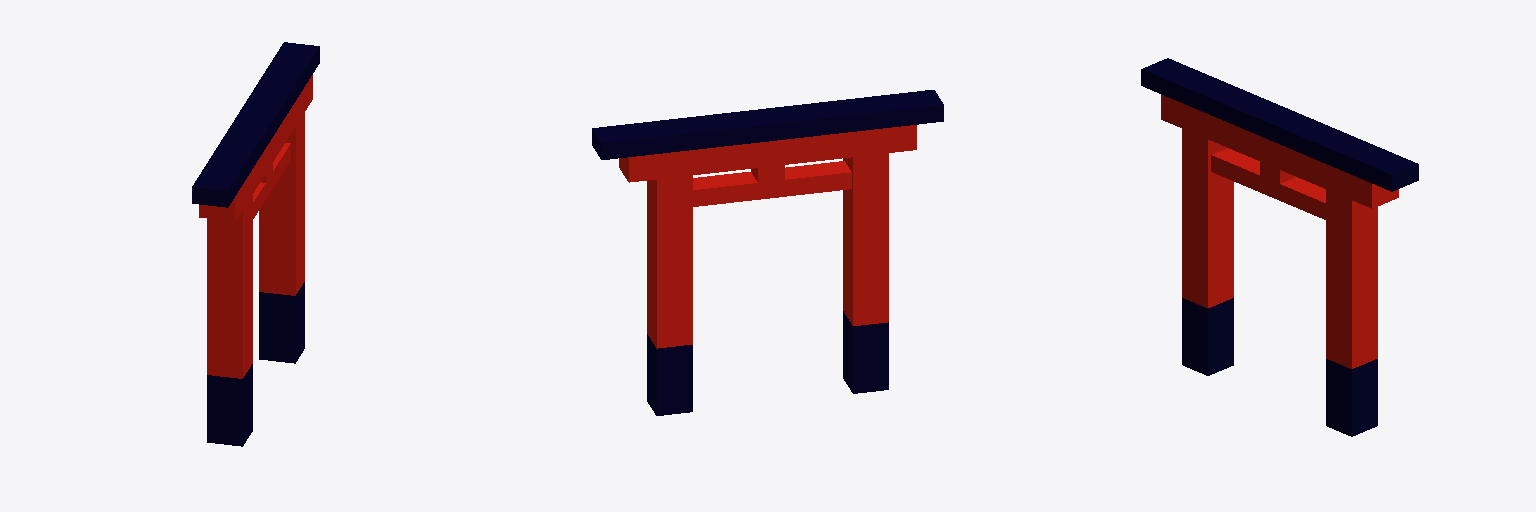
3 views of the same model, side by side, from view 1: azimuth 30°, elevation 25°; view 2: azimuth 150°, elevation 25°; view 3: azimuth 270°, elevation 25° (orthographic).
Visible parts, largest first — view 1: cube; view 2: cube; view 3: cube.
Boxes of the visible parts, <box> form: cube: <box>192,42,319,446</box>; cube: <box>592,90,943,415</box>; cube: <box>1141,58,1418,436</box>.
Size of the model in its own units: 0.9281 by 1.03 by 0.9281.
1 materials, 1 textured.